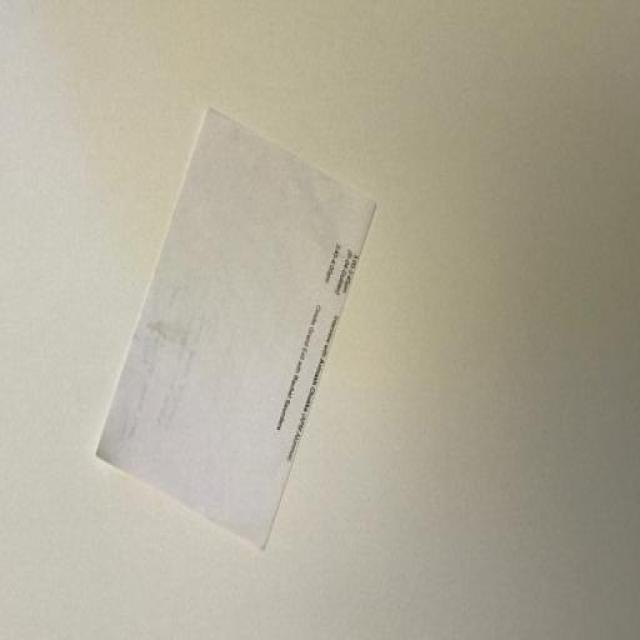paper: (94, 103, 378, 550)
